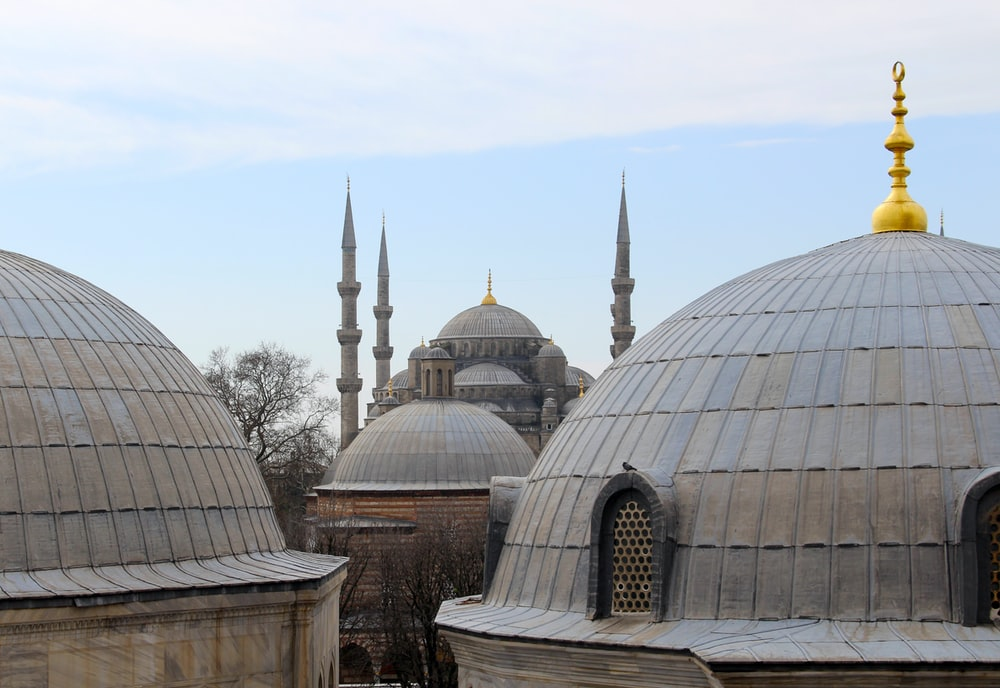Mosque: (14, 133, 986, 678)
